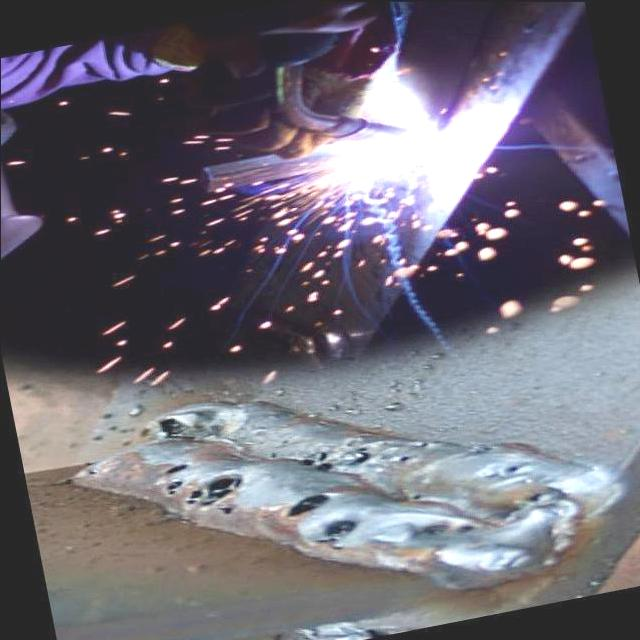defect: (154, 456, 245, 518), (154, 408, 227, 442), (273, 489, 335, 520), (310, 515, 360, 551), (509, 487, 556, 509), (294, 448, 335, 471), (345, 444, 377, 465), (416, 520, 452, 534), (499, 460, 523, 474), (470, 443, 494, 454), (456, 523, 477, 531), (83, 466, 103, 474), (272, 439, 290, 447), (264, 451, 279, 459), (394, 454, 411, 461), (410, 492, 425, 499), (418, 441, 428, 446)
